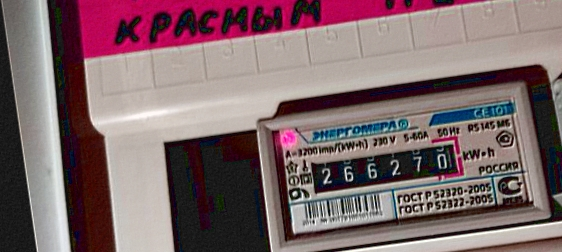0: (434, 150, 448, 172)
2: (318, 164, 335, 187), (387, 157, 402, 178)
6: (341, 163, 356, 185), (365, 160, 379, 180)
7: (410, 153, 425, 174)
screen: (296, 128, 475, 208)
